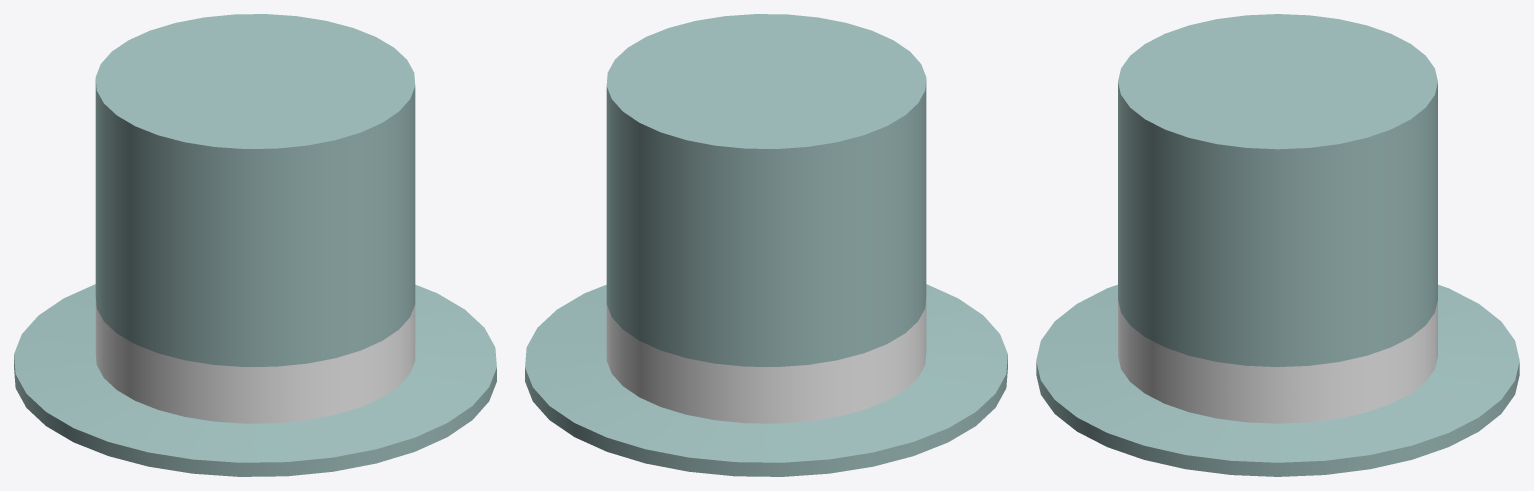
The model's file is Sombrero.fbx.
3 renders of one model, left to right at view 1: azimuth 30°, elevation 25°; view 2: azimuth 150°, elevation 25°; view 3: azimuth 270°, elevation 25°, orthographic.
Visible parts, largest first — view 1: Circle; view 2: Circle; view 3: Circle.
Part boxes in pixels (x1,y1,x2,y2): Circle: (14, 14, 496, 476); Circle: (525, 14, 1007, 476); Circle: (1036, 14, 1519, 476).
Bounding box in the file's own units: 302 × 202 × 302.
